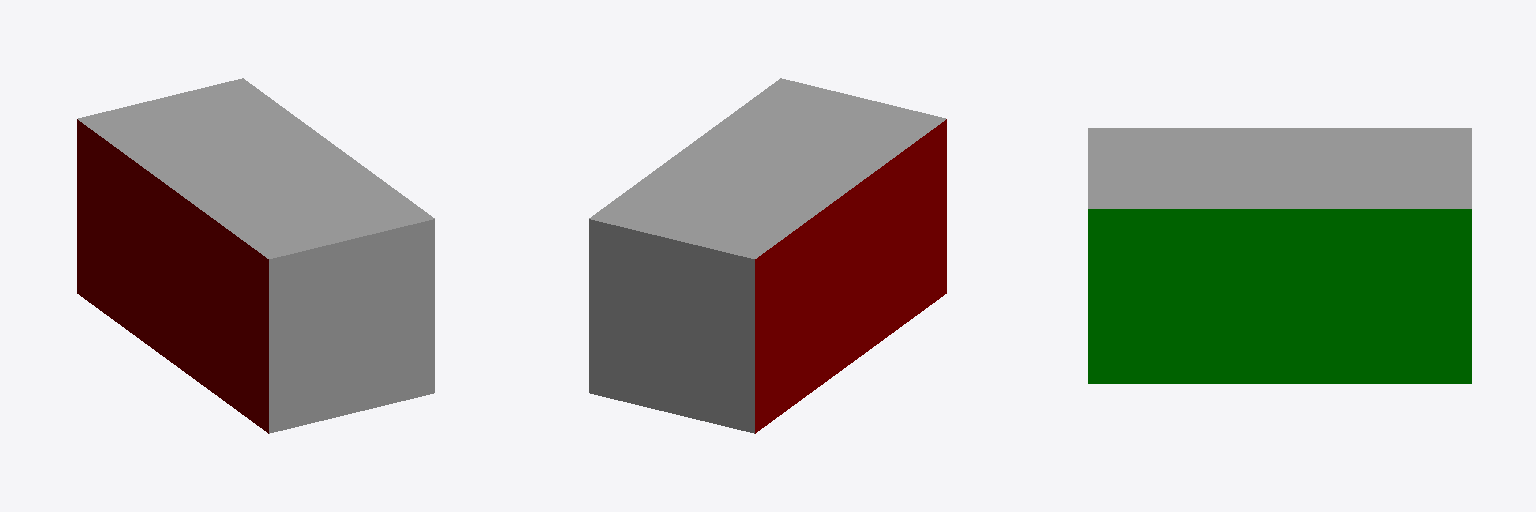
The model's file is room.obj.
3 views of the same model, side by side, from view 1: azimuth 30°, elevation 25°; view 2: azimuth 150°, elevation 25°; view 3: azimuth 270°, elevation 25° (orthographic).
Visible parts, largest first — view 1: room, wall; view 2: room, mirror; view 3: room.
Part boxes in pixels (x1,y1,x2,y2): room: (77,78,434,433); wall: (269,219,434,433); room: (589,78,946,433); mirror: (589,219,754,433); room: (1088,128,1471,383).
Size of the model in its own units: 4 by 4 by 8.